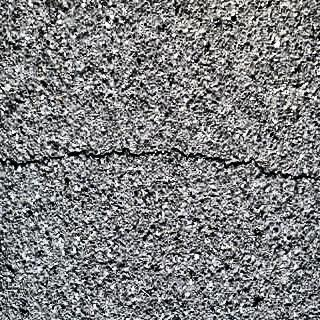crack: (1, 144, 320, 182)
